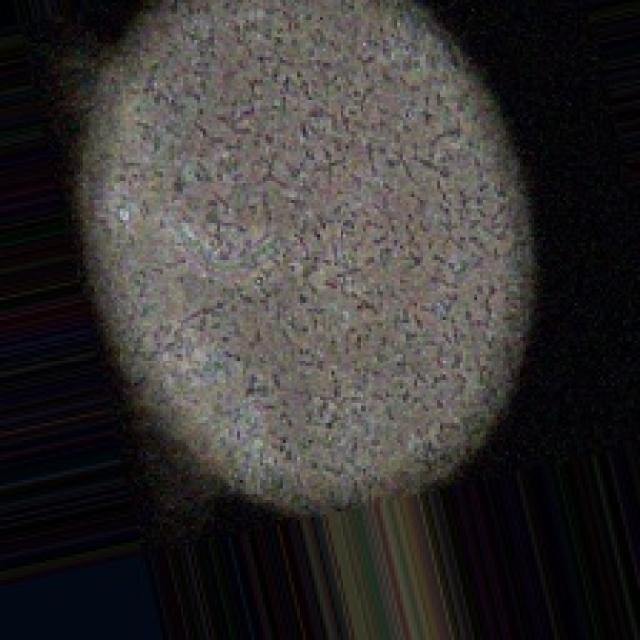Spiral_bacteria: (57, 0, 545, 531)
